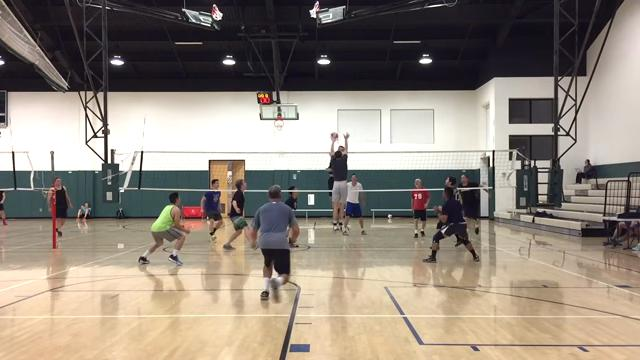attacco: (326, 129, 344, 197)
muro: (325, 130, 354, 237)
